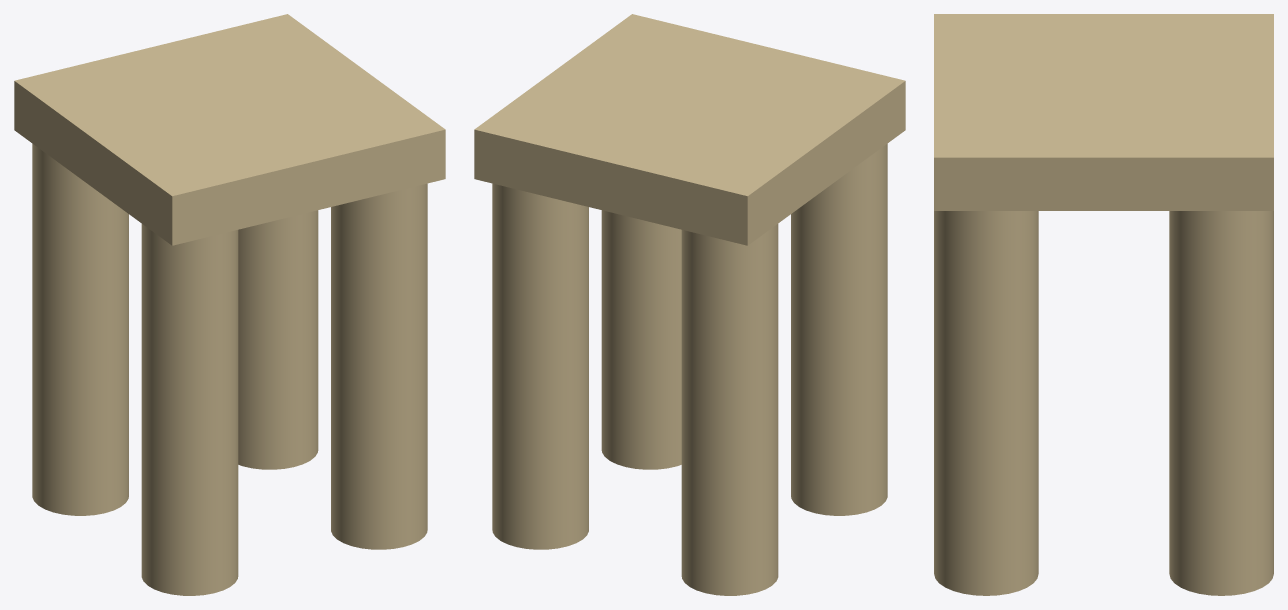
Rendered from 竹椅子.obj.
3 renders of one model, left to right at view 1: azimuth 30°, elevation 25°; view 2: azimuth 150°, elevation 25°; view 3: azimuth 270°, elevation 25°, orthographic. The views are drawn at different scales.
Parts seen in each view (by area): view 1: ソリッド1; view 2: ソリッド1; view 3: ソリッド1.
Part boxes in pixels (x1,y1,x2,y2): ソリッド1: (14,14,445,595); ソリッド1: (474,14,905,595); ソリッド1: (934,14,1273,595).
Bounding box in the file's own units: 260 × 370 × 260.
